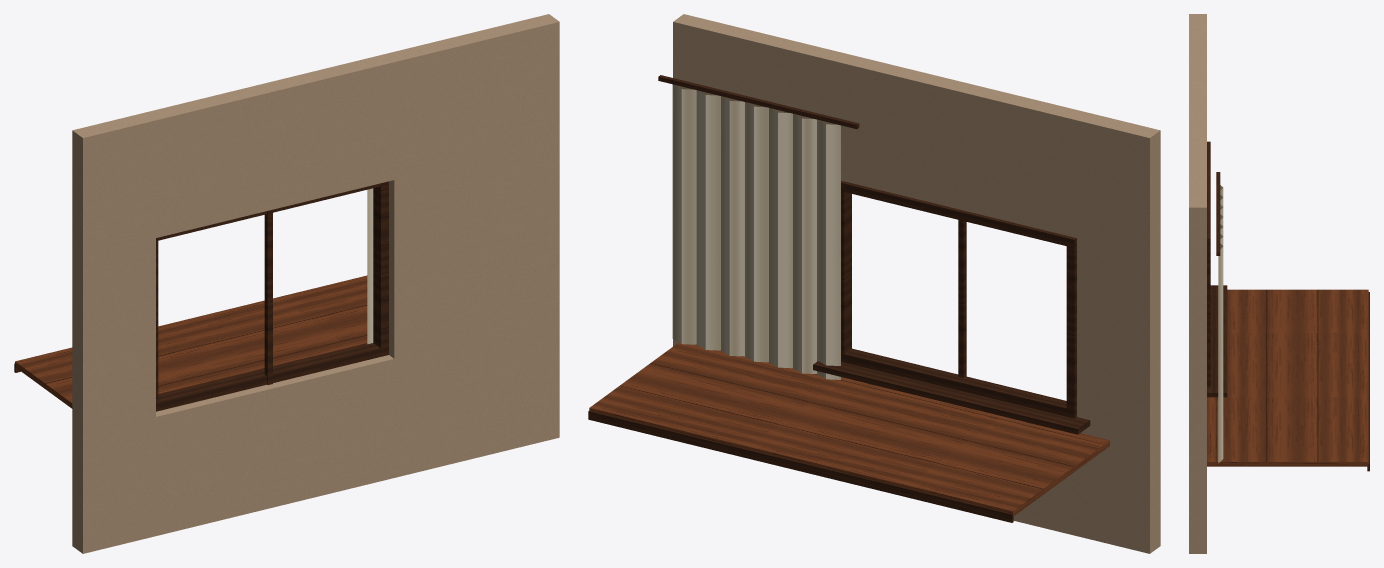
File: SM_MenuRoom.fbx
The picture shows the model from 3 angles, left to right: view 1: azimuth 30°, elevation 25°; view 2: azimuth 150°, elevation 25°; view 3: azimuth 270°, elevation 25°; orthographic projection. The views are drawn at different scales.
Visible parts, largest first — view 1: Room; view 2: Room; view 3: Room.
Part boxes in pixels (box(x1,y1,x2,y2)): Room: box(14, 14, 559, 553); Room: box(588, 14, 1160, 553); Room: box(1189, 14, 1369, 553).
Bounding box in the file's own units: 3.65 × 3 × 1.42.
Materials: 4 (4 with a texture image).
